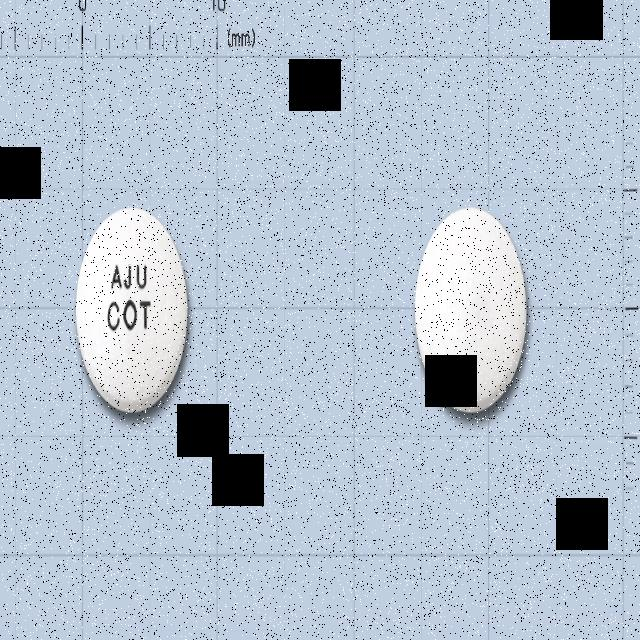Croxacin: (75, 205, 188, 414)
